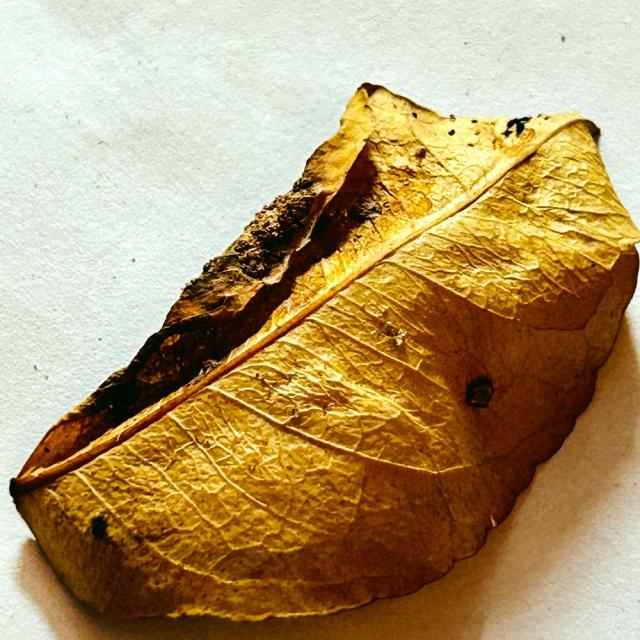DryLeaf_Lemon: (10, 83, 639, 620)
